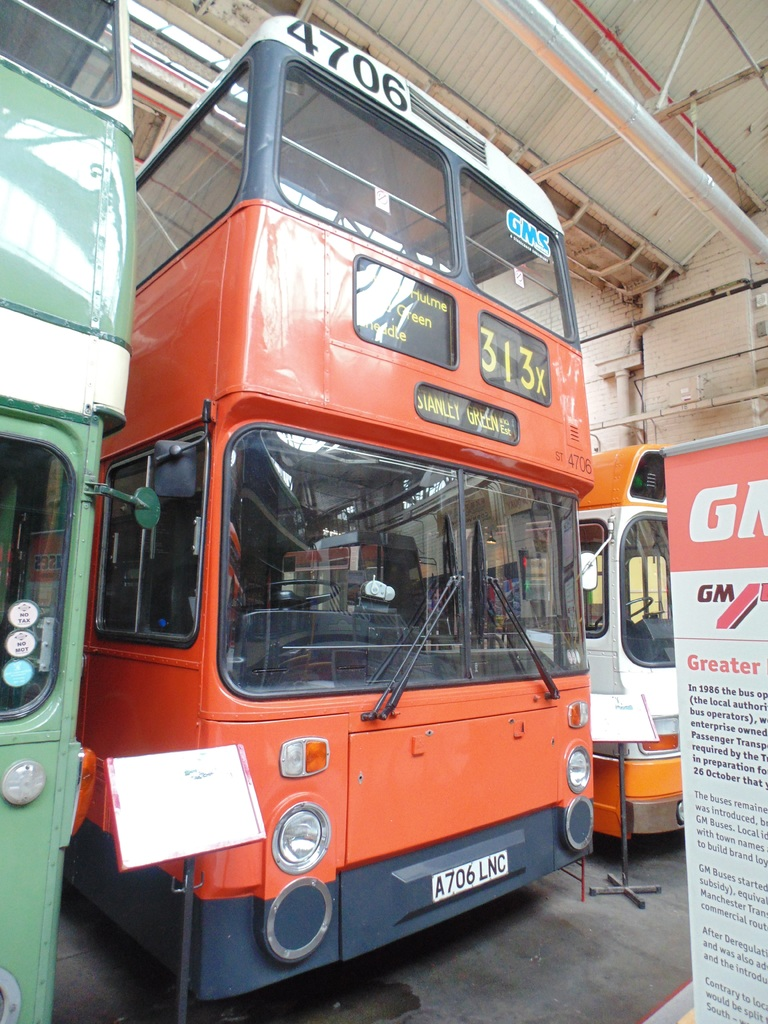Bus: (12, 10, 593, 1009), (0, 0, 163, 1023), (572, 448, 686, 836)
